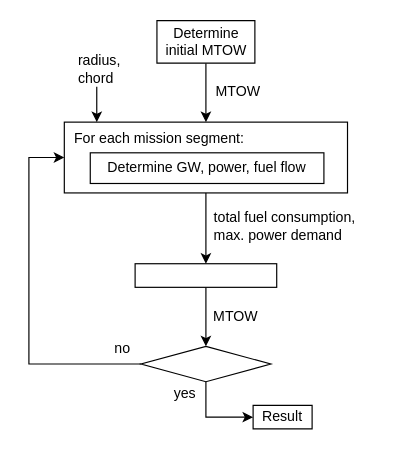
Some shapes in this 398 by 450 pixel diagram are drawn without their labels. The box of each missing label's shape, as (x1, y1, x2, y2) in pixels:
converged?: (140, 345, 271, 382)
EW estimation: (134, 263, 277, 287)
